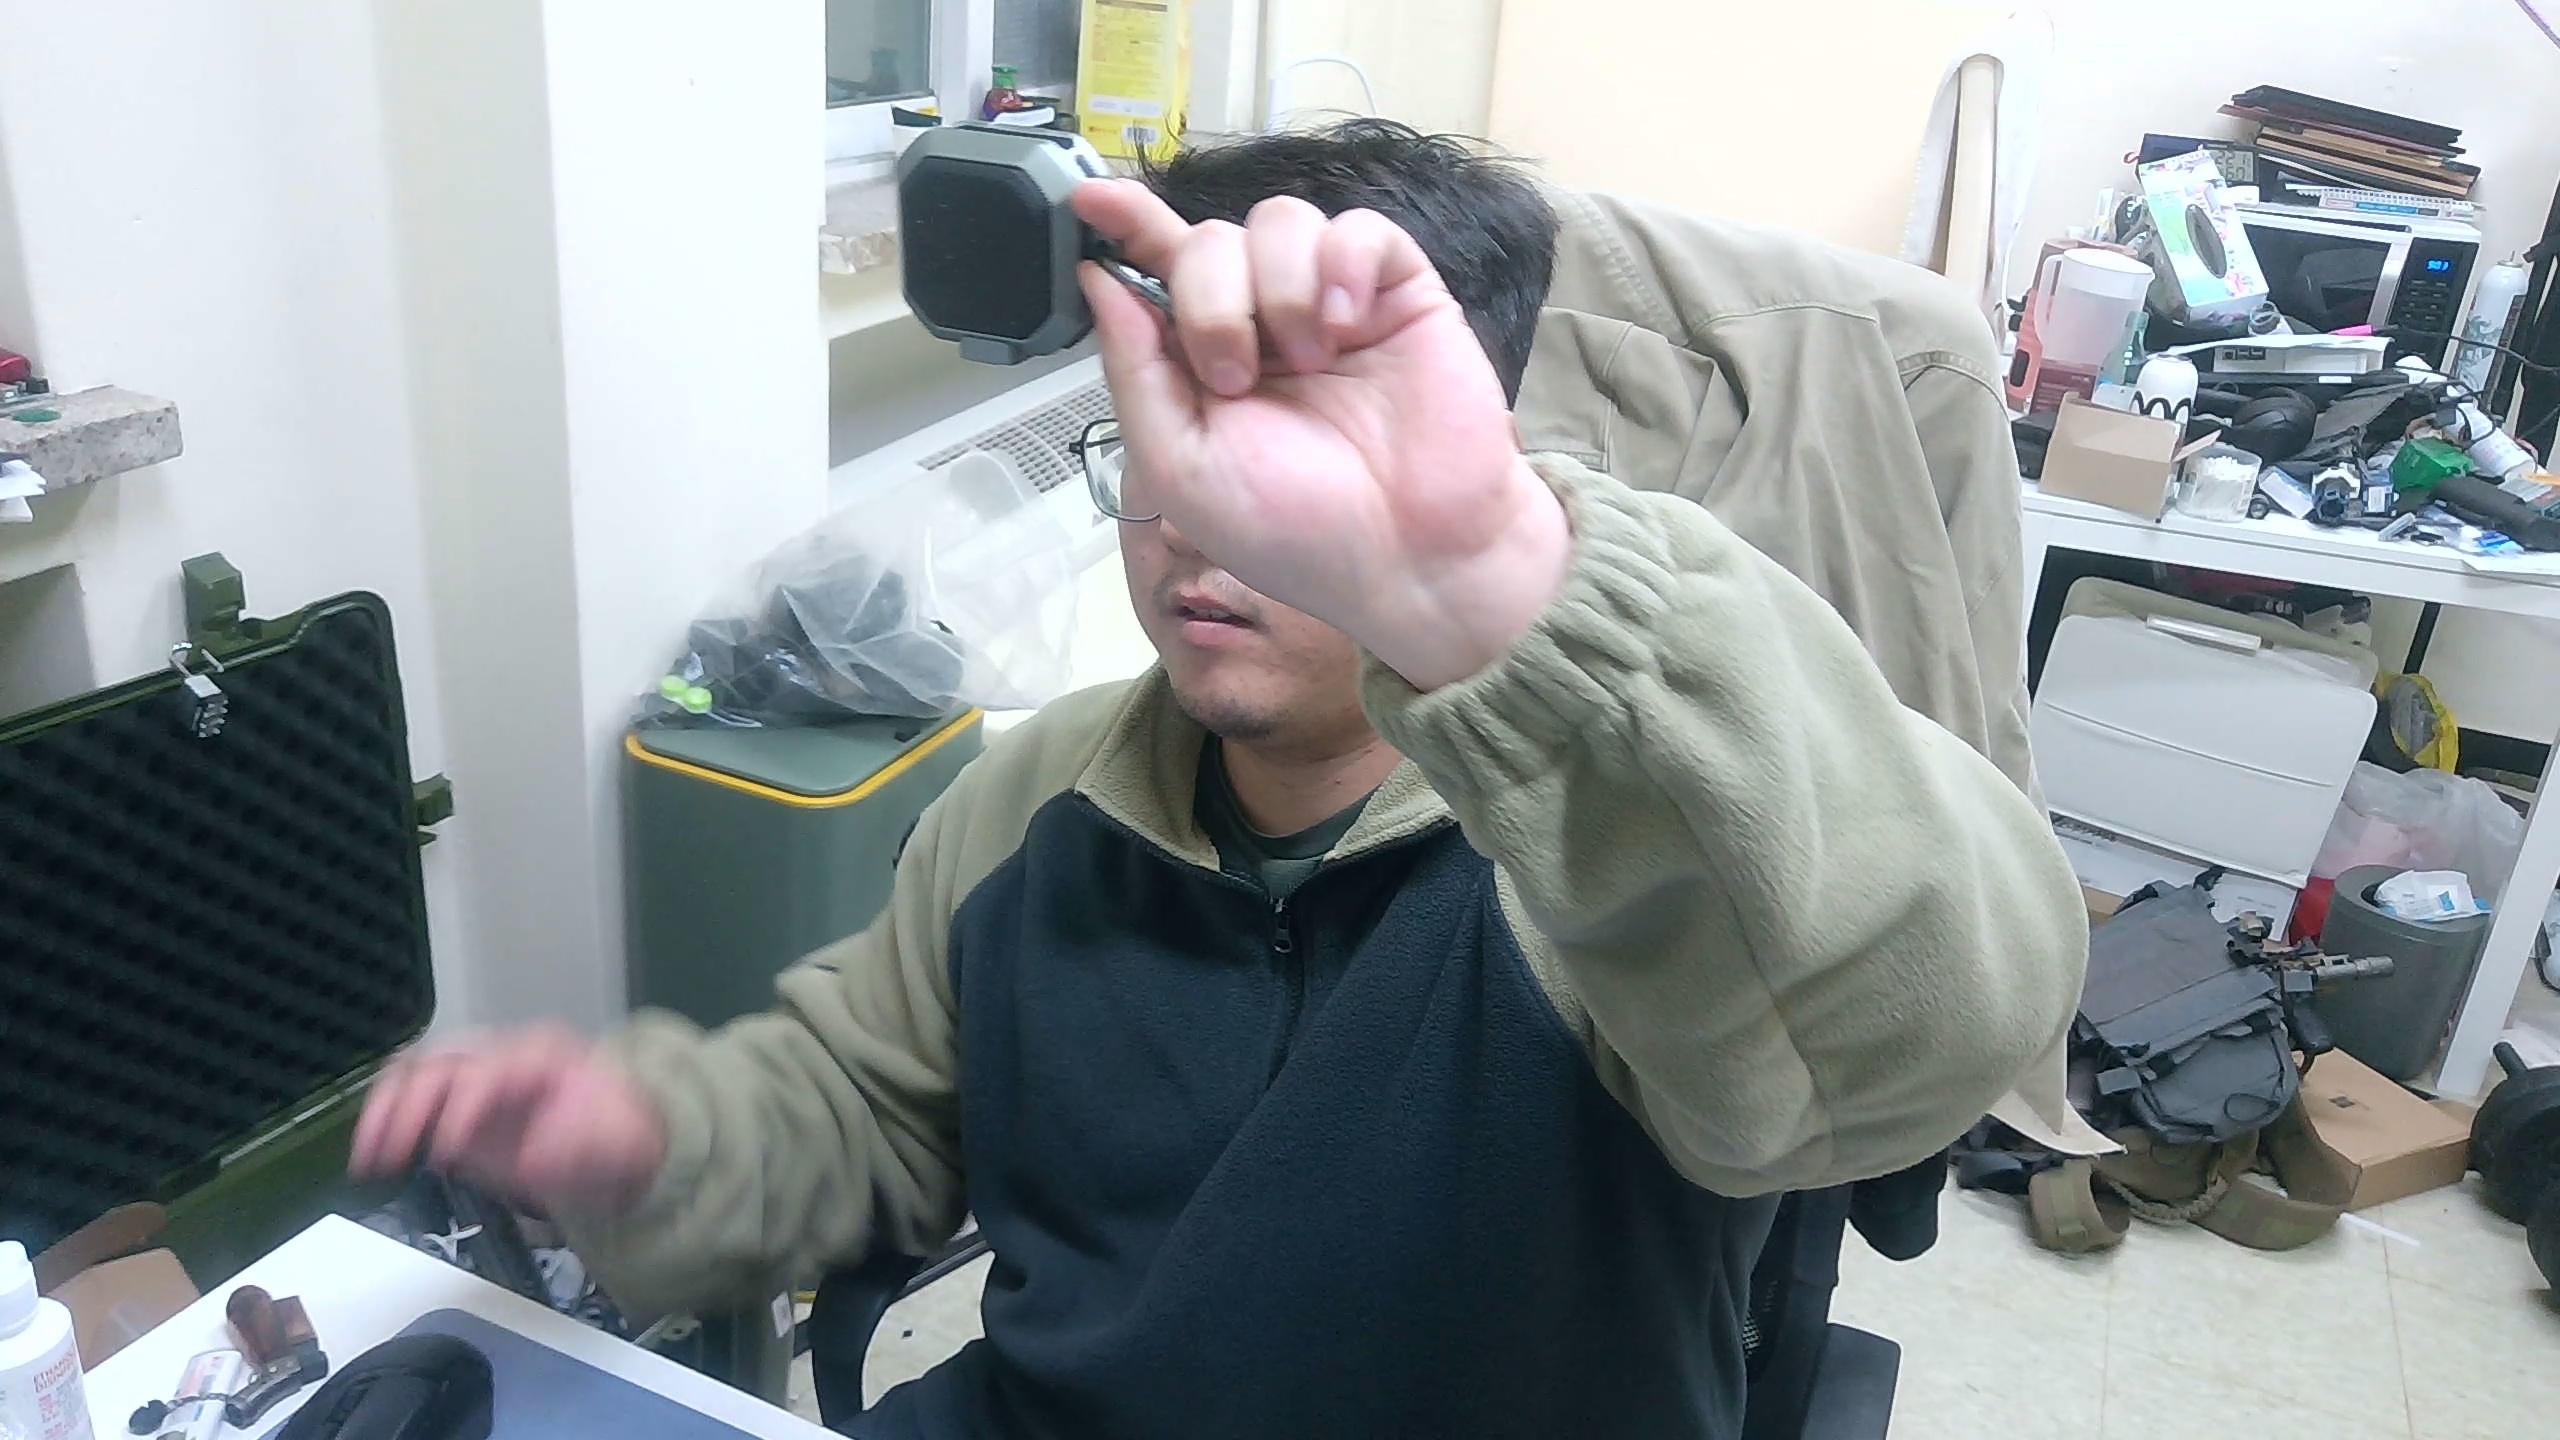blue_pliers: (891, 114, 1175, 367)
